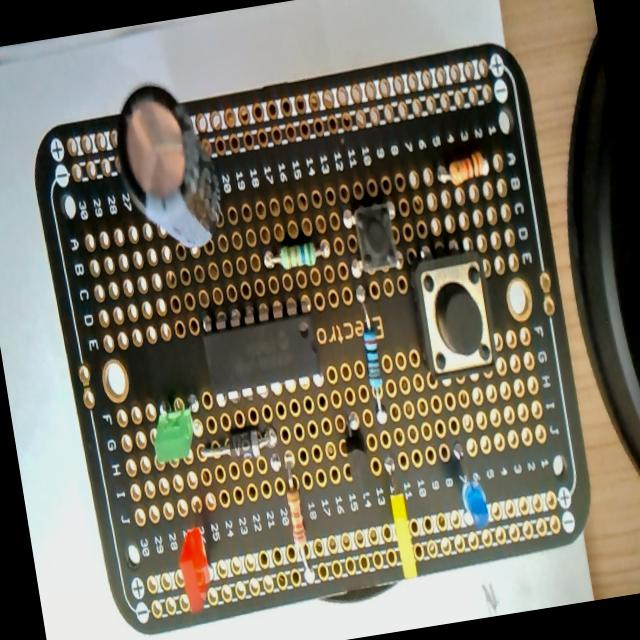Electrolytic capacitor: (103, 71, 235, 268)
IC: (202, 309, 324, 397)
diode: (198, 426, 278, 468)
led: (171, 512, 221, 620), (142, 384, 204, 470), (380, 445, 420, 578), (452, 440, 492, 530)
resistor: (280, 456, 318, 582), (356, 294, 391, 420), (264, 240, 332, 274), (438, 150, 492, 190)
switch: (412, 251, 500, 380), (344, 201, 406, 277)
transistor: (338, 413, 379, 502)
